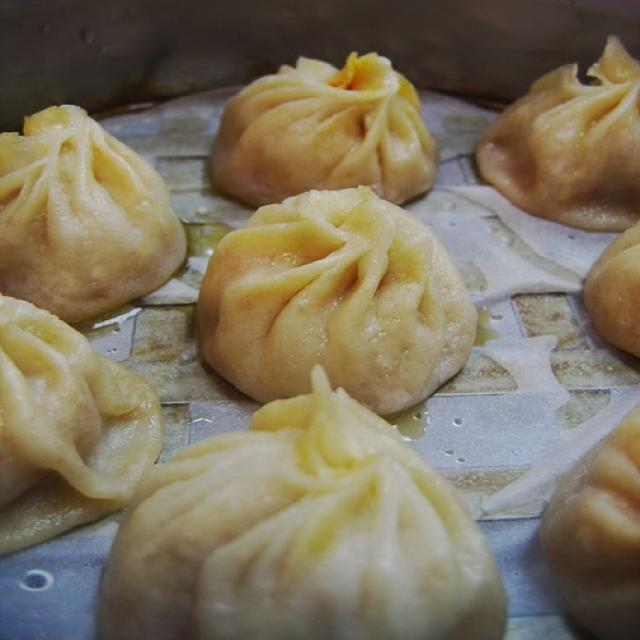带馅早点: (7, 18, 619, 631)
